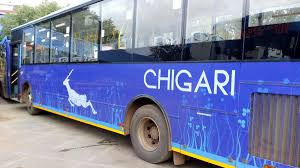Chigari: (3, 1, 300, 168)
